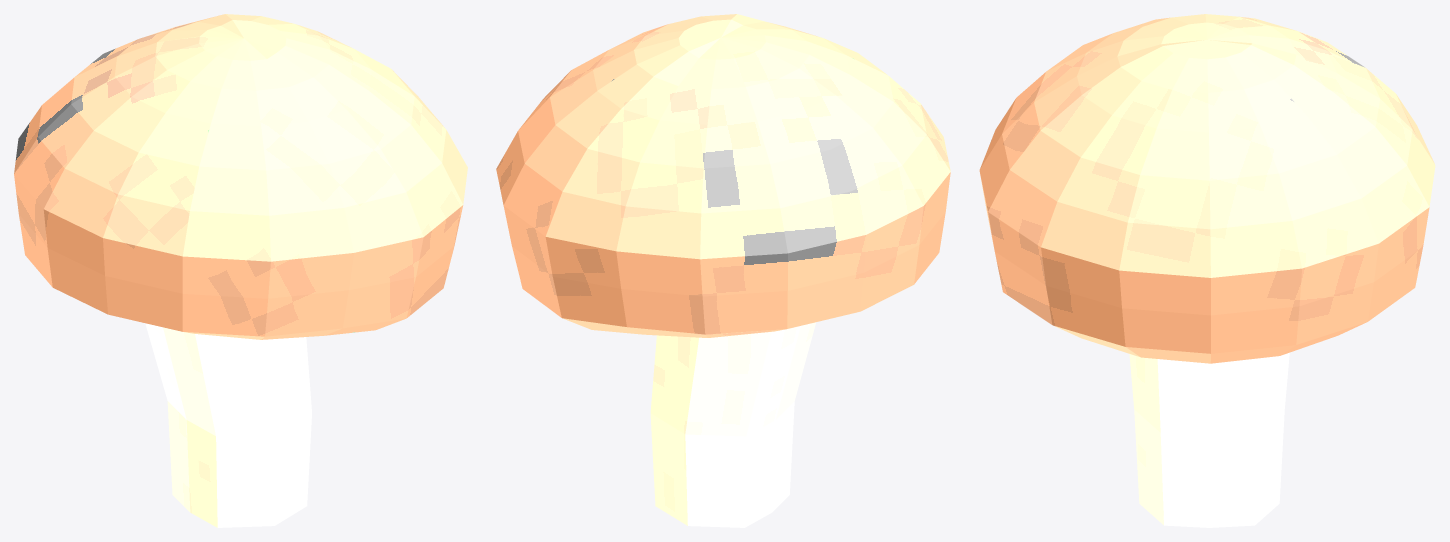
Rendered from Mushroom.glb.
The picture shows the model from 3 angles, left to right: view 1: azimuth 30°, elevation 25°; view 2: azimuth 150°, elevation 25°; view 3: azimuth 270°, elevation 25°; orthographic projection.
Parts seen in each view (by area): view 1: Cup; view 2: Cup; view 3: Cup.
Part boxes in pixels (x1,y1,x2,y2): Cup: (14, 14, 467, 527); Cup: (496, 14, 950, 527); Cup: (979, 14, 1435, 527).
Size of the model in its own units: 1.48 by 1.65 by 1.46.
